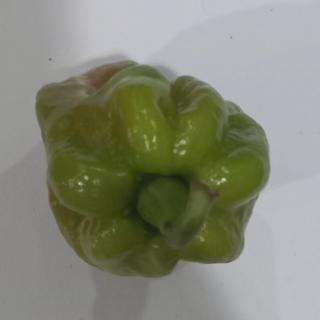Grade-B: (34, 54, 272, 278)
